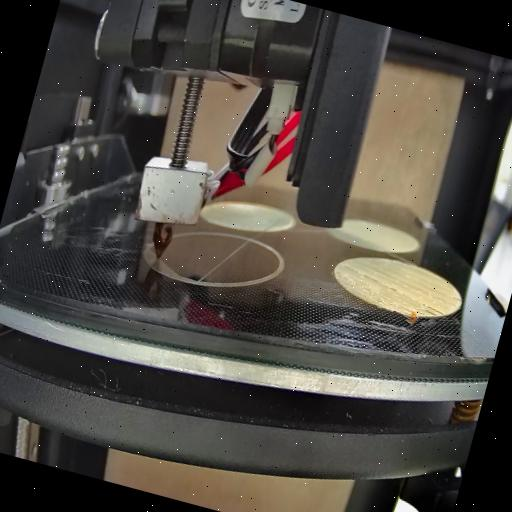under_extrusion: (340, 265, 402, 296), (414, 300, 444, 324), (396, 301, 414, 316), (451, 292, 464, 304)
